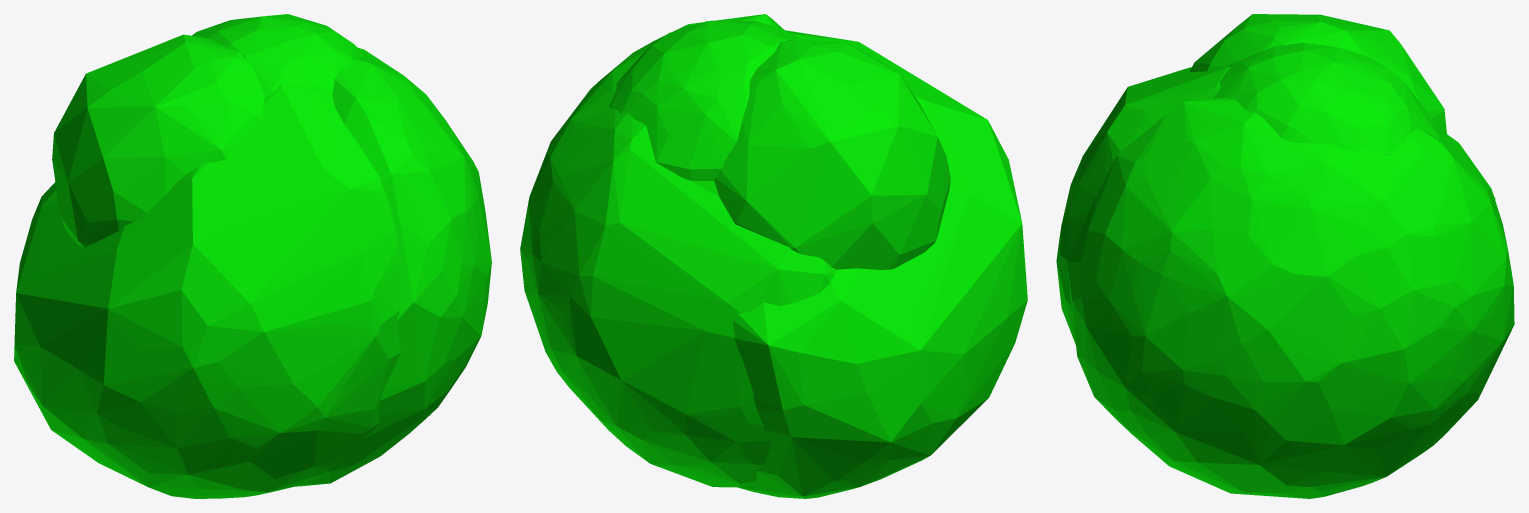
Rendered from spiderman-thorax_view.dae.
3 views of the same model, side by side, from view 1: azimuth 30°, elevation 25°; view 2: azimuth 150°, elevation 25°; view 3: azimuth 270°, elevation 25° (orthographic).
Visible parts, largest first — view 1: rfoot_rom, lfoot_rom, rhand_rom, lhand_rom; view 2: lfoot_rom, rfoot_rom, rhand_rom, lhand_rom; view 3: lfoot_rom, lhand_rom, rfoot_rom, rhand_rom.
Part boxes in pixels (left/top/right/bottom): rfoot_rom: left=14, top=84, right=400, bottom=498; lfoot_rom: left=53, top=48, right=491, bottom=486; rhand_rom: left=52, top=34, right=264, bottom=247; lhand_rom: left=192, top=14, right=364, bottom=97; lfoot_rom: left=520, top=14, right=835, bottom=487; rfoot_rom: left=690, top=30, right=1027, bottom=498; rhand_rom: left=714, top=39, right=950, bottom=269; lhand_rom: left=609, top=20, right=805, bottom=180; lfoot_rom: left=1067, top=97, right=1514, bottom=498; lhand_rom: left=1213, top=42, right=1439, bottom=155; rfoot_rom: left=1056, top=66, right=1495, bottom=344; rhand_rom: left=1189, top=14, right=1446, bottom=137.
Bounding box in the file's own units: 1.99 × 1.91 × 1.98.
